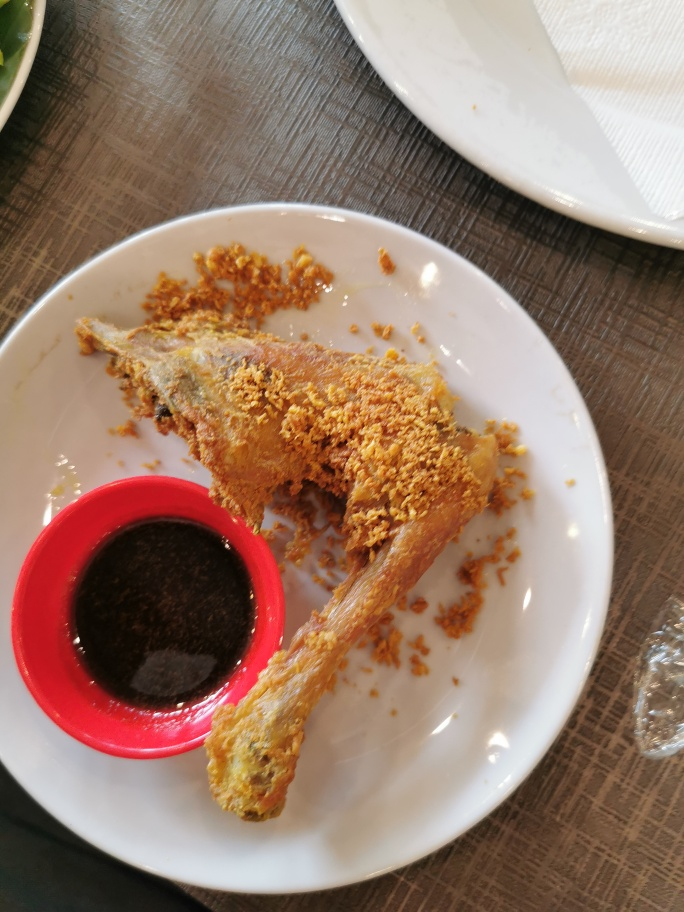ayam goreng: (58, 299, 500, 823)
kecap: (17, 472, 288, 764)
